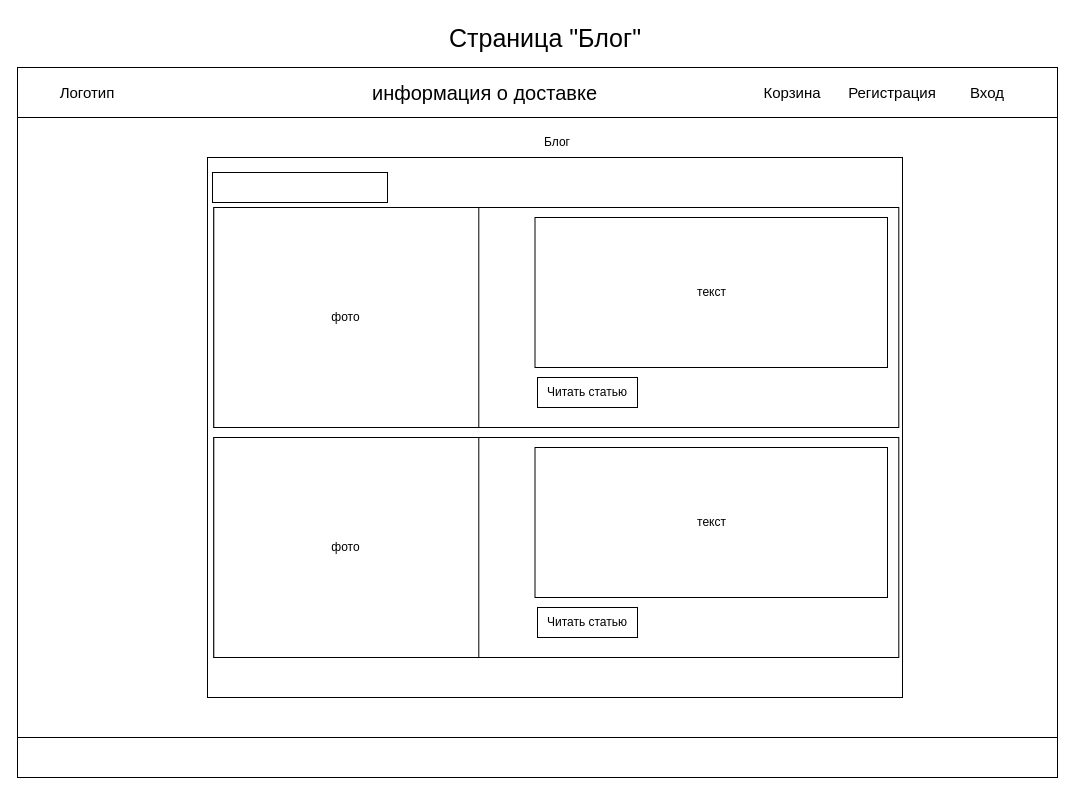
Image size: 1082x795. Some labels were removed from this diagram. The centre of each missing label's shape, as x and y in pixels:
"Создать новый блог" goes at (300,187).
"Футер" goes at (537,757).
